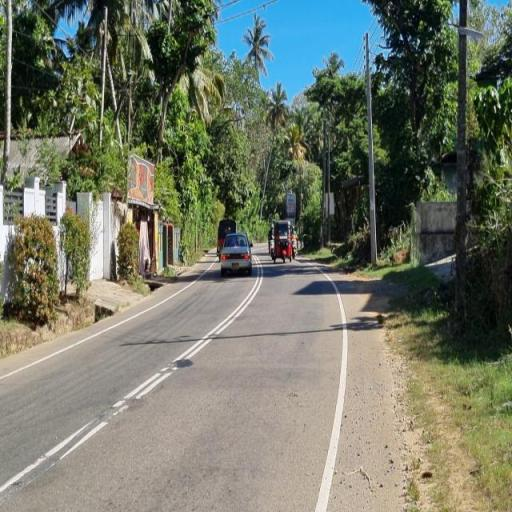double_white_line: (111, 267, 266, 418)
